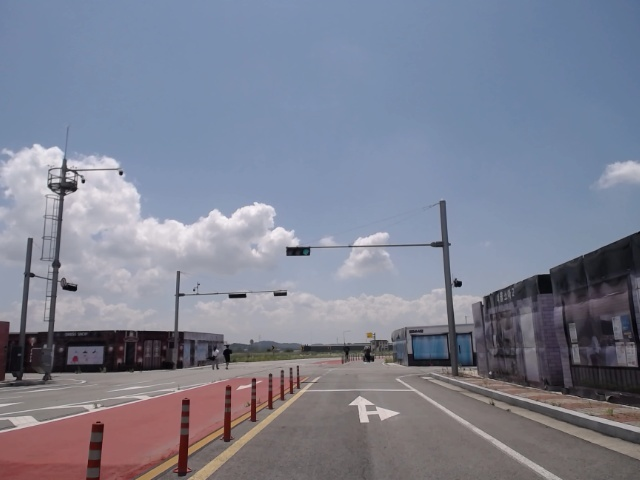green_3: (286, 247, 310, 255)
